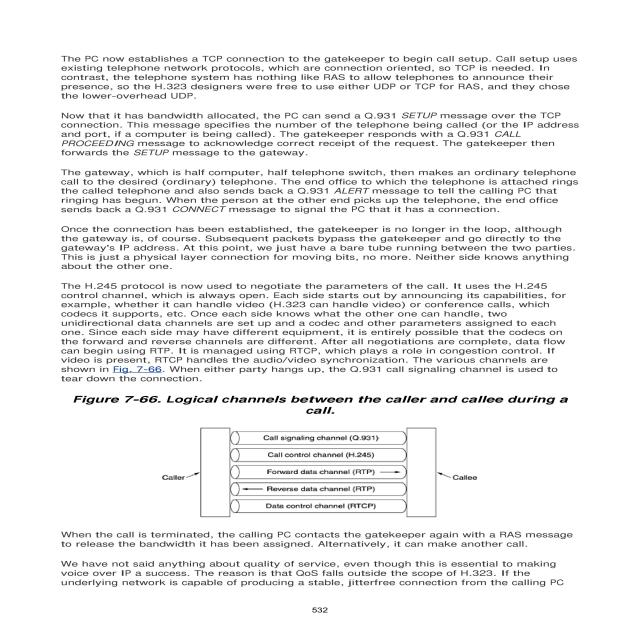diagram: (49, 383, 582, 532)
